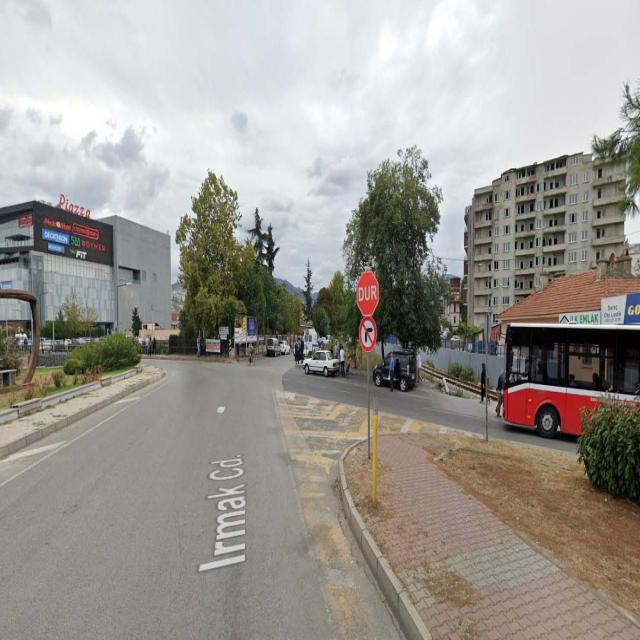dur: (356, 272, 379, 318)
sagadonulmez: (359, 316, 377, 352)
